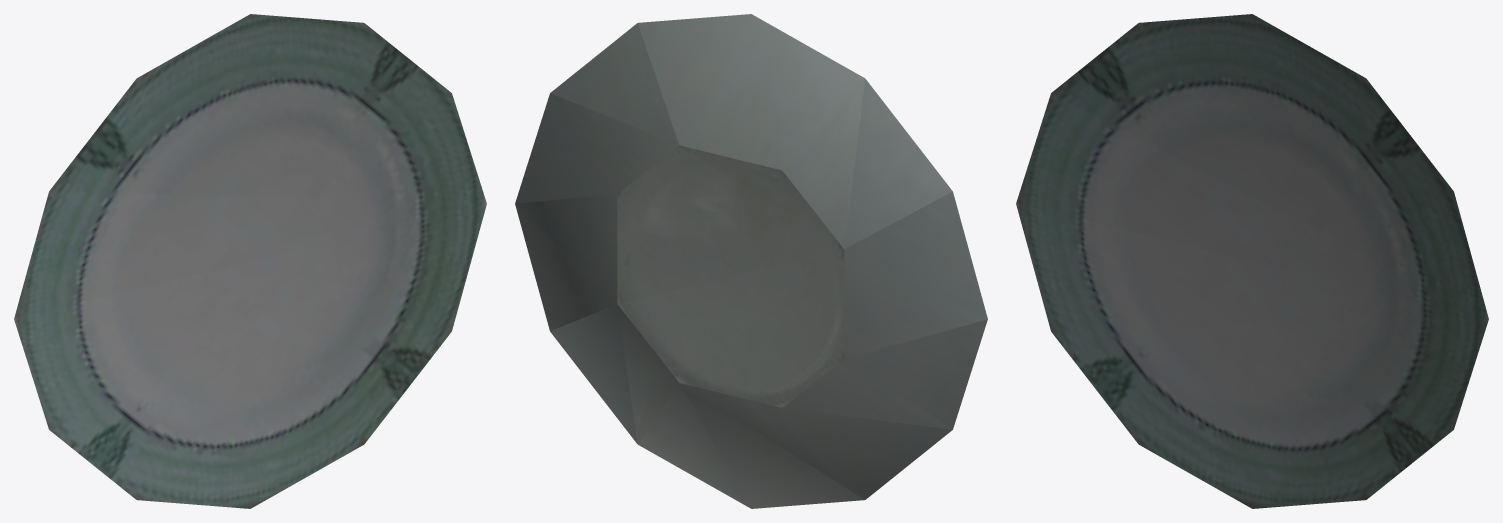
File: p_us_restaurant_plate_LOD3.obj
3 renders of one model, left to right at view 1: azimuth 30°, elevation 25°; view 2: azimuth 150°, elevation 25°; view 3: azimuth 330°, elevation 25°, orthographic.
Visible parts, largest first — view 1: mtl_p_us_restaurant_plate; view 2: mtl_p_us_restaurant_plate; view 3: mtl_p_us_restaurant_plate.
Part boxes in pixels (x1,y1,x2,y2): mtl_p_us_restaurant_plate: (14, 14, 486, 508); mtl_p_us_restaurant_plate: (515, 14, 987, 508); mtl_p_us_restaurant_plate: (1016, 14, 1488, 508).
Bounding box in the file's own units: 33.89 × 33.89 × 2.57.
